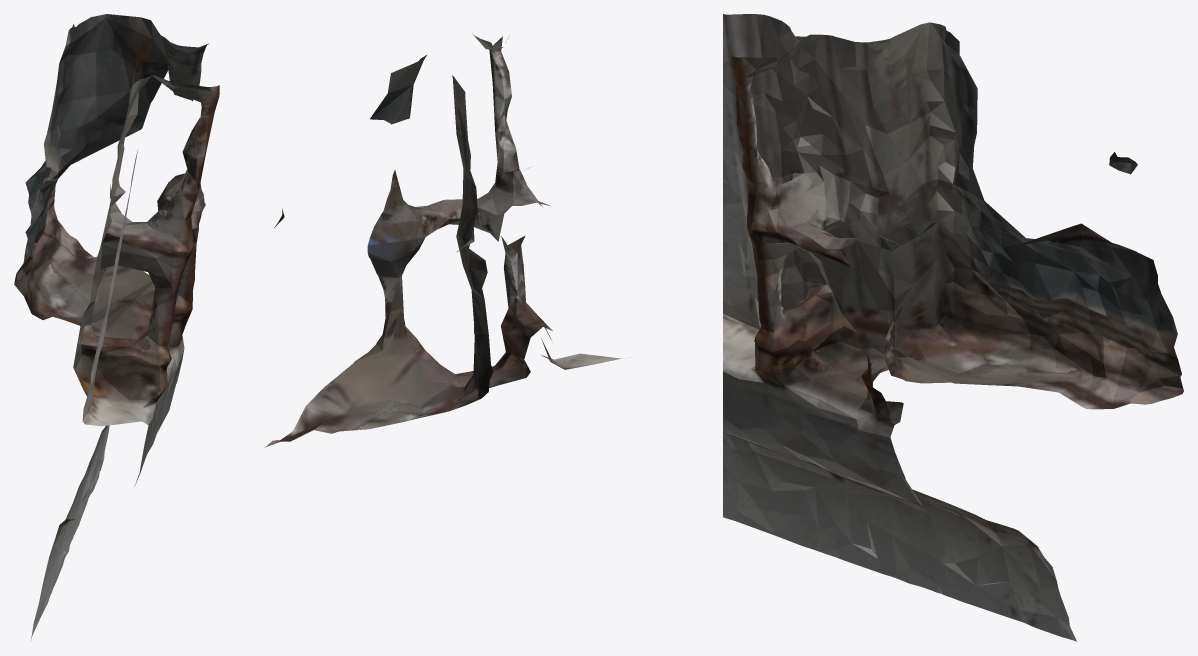
3 views of the same model, side by side, from view 1: azimuth 30°, elevation 25°; view 2: azimuth 150°, elevation 25°; view 3: azimuth 270°, elevation 25° (orthographic). The views are drawn at different scales.
Size of the model in its own units: 0.3954 by 0.8374 by 0.6173.
Materials: 3 (3 with a texture image).
